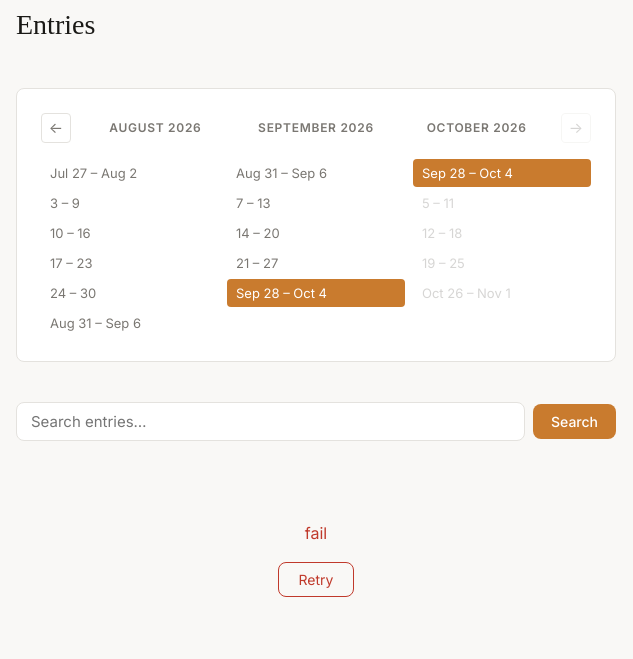
EntriesViewPage - list mode › retries fetching when Retry button is clicked
What coordinates should you click on to do the following:
click the button "Retry"
I would click on:
 (316, 580)
Its box is [278, 562, 354, 597].
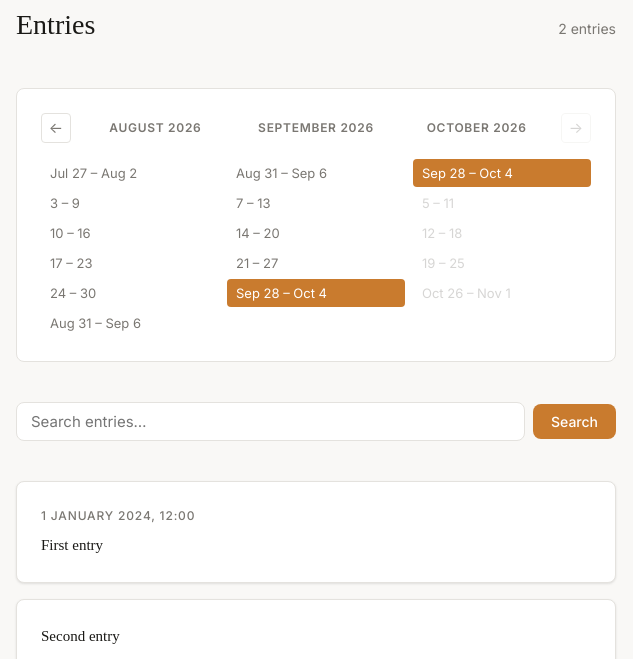
Check: the text "First entry" is shown, box [41, 537, 103, 553]
